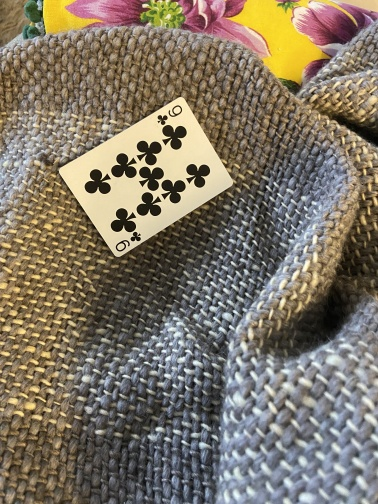nine: (57, 96, 235, 259)
